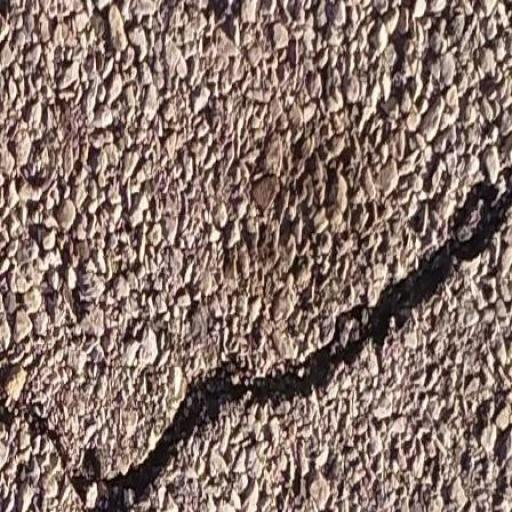spalling: (11, 152, 512, 512)
